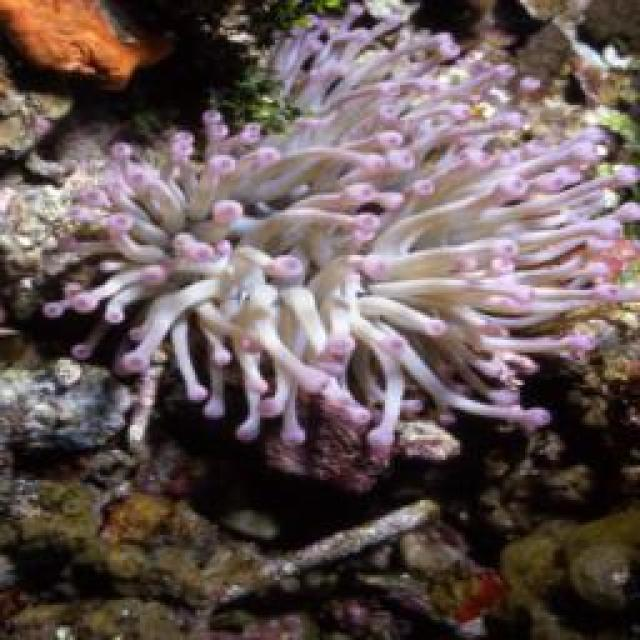reefs: (41, 2, 638, 450), (0, 0, 161, 87)
